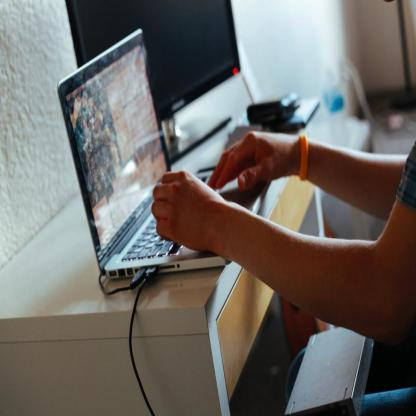board: (57, 25, 266, 262), (324, 66, 353, 151)
